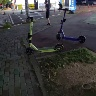beam: (55, 7, 90, 44)
gcooter: (24, 16, 66, 54)
